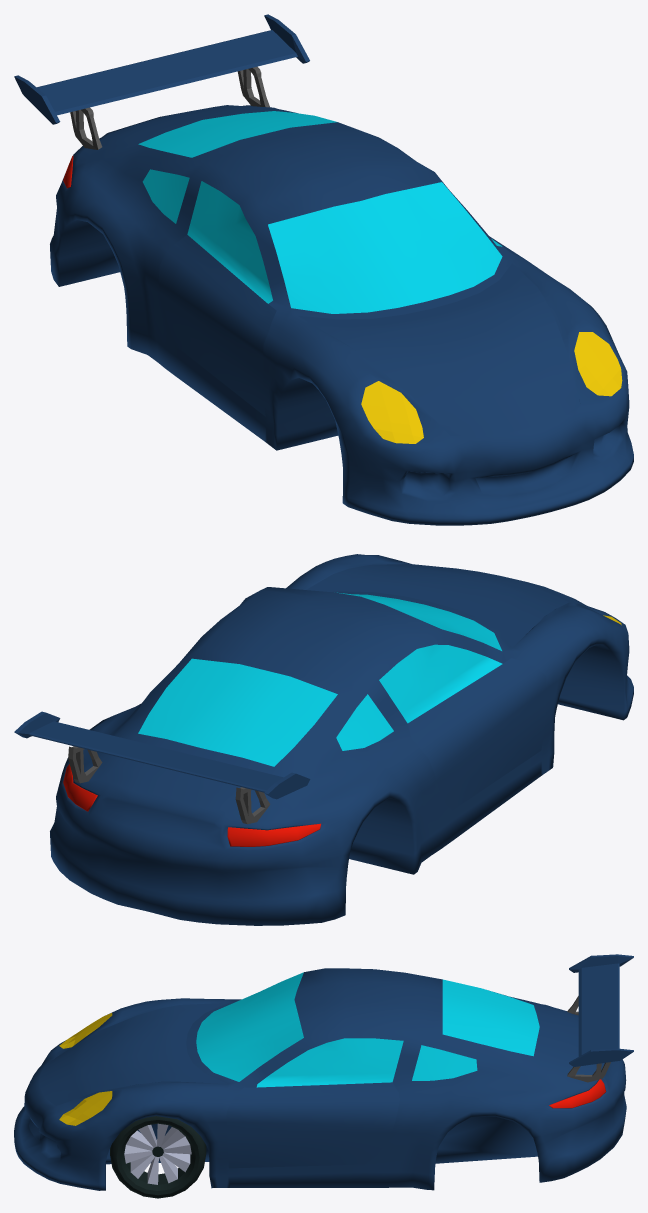
The model's file is sport_car.glb.
3 views of the same model, one above another, from view 1: azimuth 30°, elevation 25°; view 2: azimuth 150°, elevation 25°; view 3: azimuth 270°, elevation 25° (orthographic). The views are drawn at different scales.
Visible parts, largest first — view 1: Body, Glass.004, Hood, Door, Wang.001, HeadLightsSimple; view 2: Body, Glass.004, Door, Hood, Wang.001, TailLights; view 3: Body, Glass.004, Door, Hood, Wheel.001, Wang.001, HeadLightsSimple, TailLights.
Part boxes in pixels (x1,y1,x2,y2): Body: (50, 105, 633, 525); Glass.004: (138, 111, 502, 313); Hood: (297, 263, 580, 436); Door: (158, 234, 525, 416); Wang.001: (14, 14, 309, 149); HeadLightsSimple: (361, 332, 622, 443); Body: (50, 554, 633, 925); Glass.004: (138, 592, 502, 766); Door: (407, 658, 546, 810); Hood: (306, 564, 576, 647); Wang.001: (14, 711, 310, 824); TailLights: (63, 764, 320, 846); Body: (14, 968, 626, 1190); Glass.004: (196, 972, 539, 1087); Door: (226, 1082, 399, 1168); Hood: (39, 1002, 226, 1105); Wheel.001: (110, 1116, 206, 1198); Wang.001: (567, 954, 633, 1082); HeadLightsSimple: (59, 1013, 112, 1125); TailLights: (549, 1079, 606, 1108).
Bounding box in the file's own units: 1.87 × 1.29 × 4.53.
6 materials, 1 textured.
